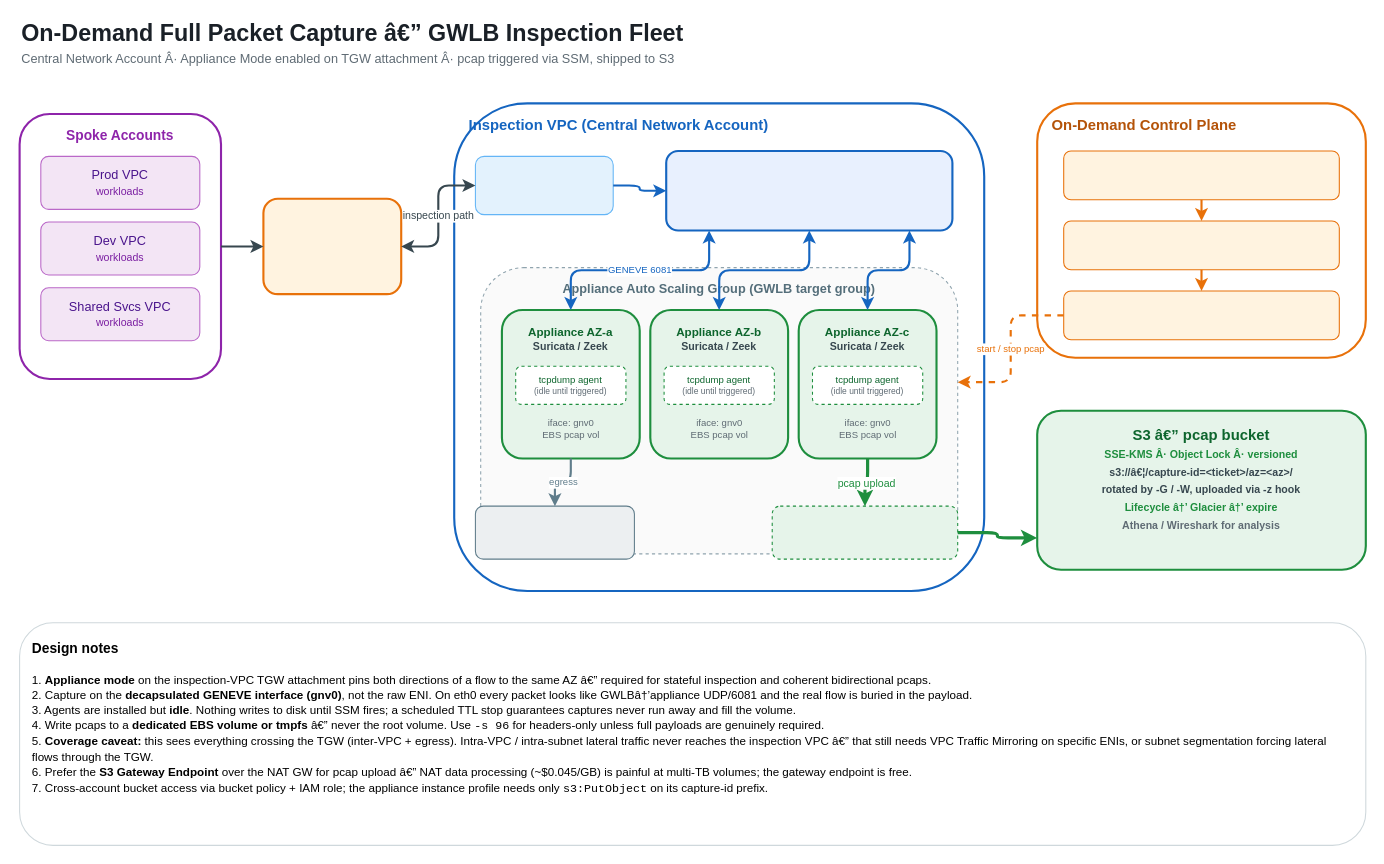
The diagram is 1384 pixels wide and 864 high, and some of its shapes have lost their labels. The centre of each missing label's shape, as x and y in pixels:
"EventBridge / Operator alarm, ticket ID, or manual trigger" goes at [1201,175].
"Gateway Load Balancer GENEVE encap Â· UDP 6081 5-tuple flow stickiness" goes at [809,190].
"Lambda â€” capture orchestrator params: duration, BPF filter, snaplen" goes at [1201,245].
"NAT Gateway â†’ IGW centralized egress" goes at [554,532].
"S3 Gateway Endpoint free â€” bypasses NAT charges" goes at [864,532].
"SSM Run Command targets ASG by tag Â· start / TTL stop" goes at [1201,315].
"TGW Subnets (one per AZ)" goes at [543,185].
"Transit Gateway appliance mode âœ“" goes at [332,246].
